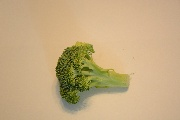broccoli: (55, 41, 132, 104)
